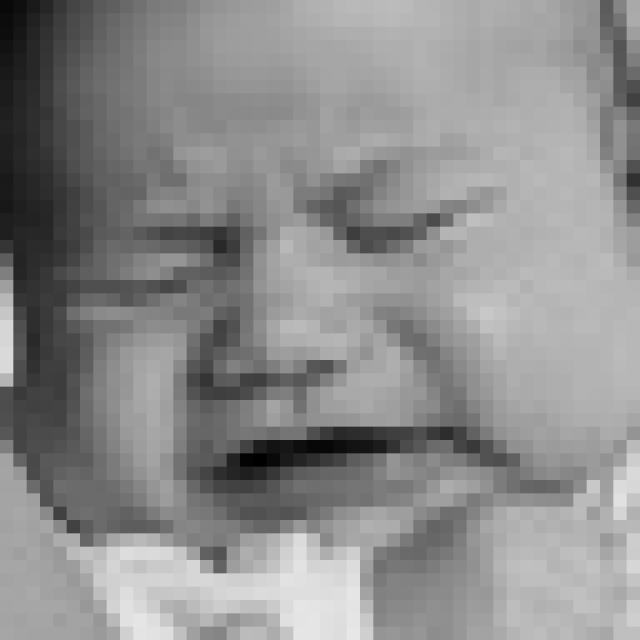sad: (55, 142, 571, 520)
